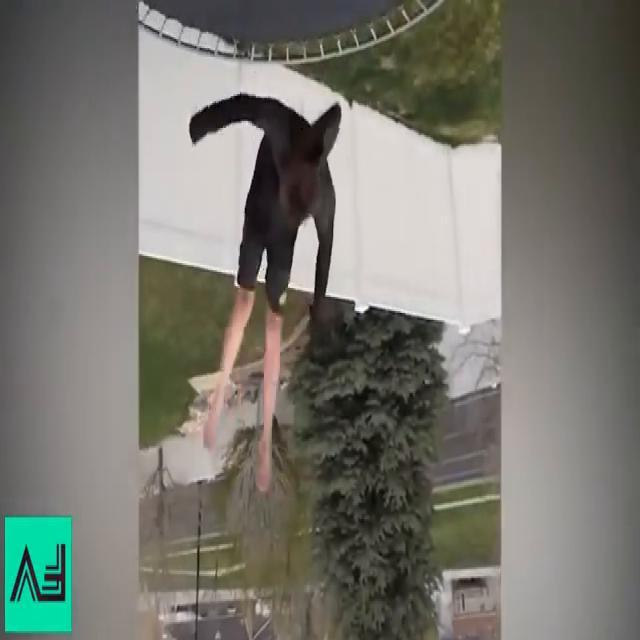fall: (178, 94, 344, 492)
